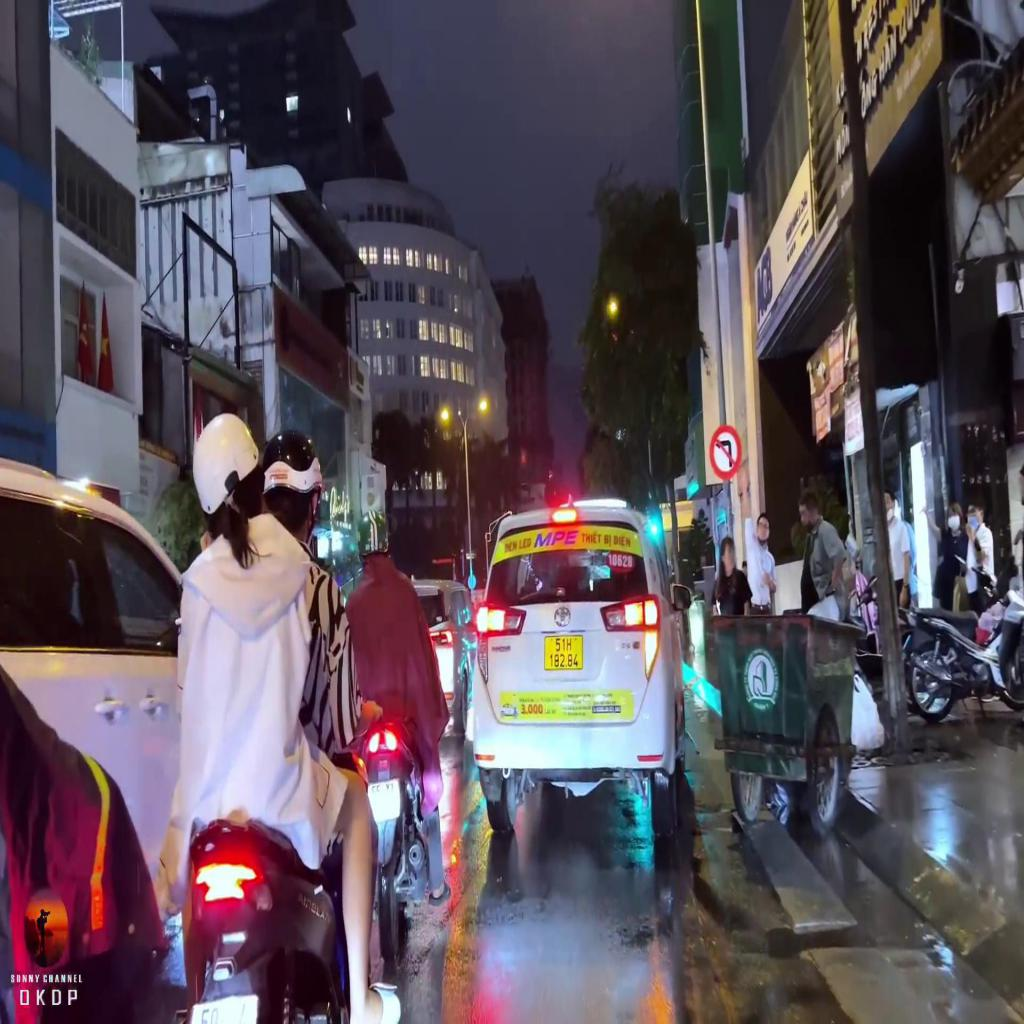cam_re_trai: (710, 426, 741, 480)
